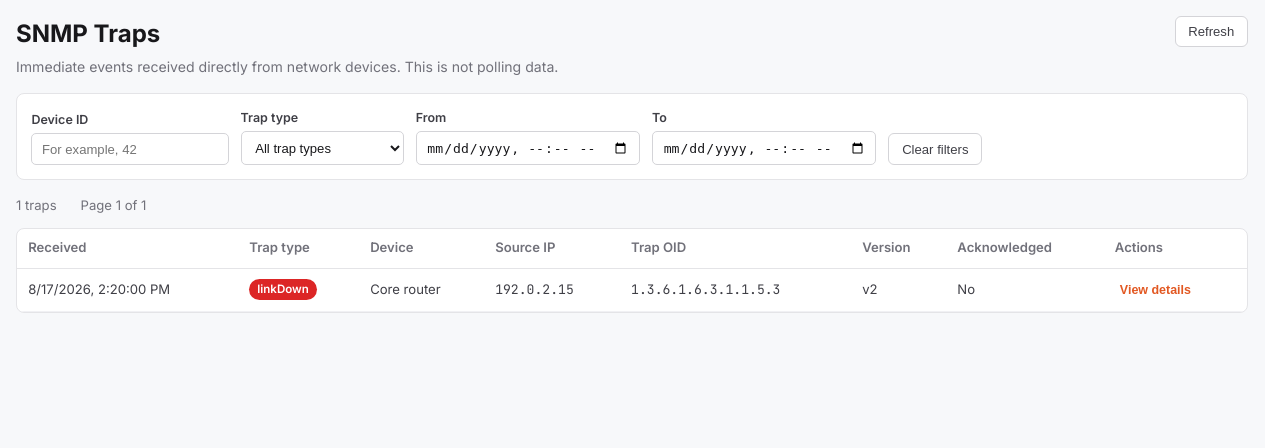
Test: SnmpTraps privacy and permissions › retries a failed detail request without collapsing the expanded row
The width and height of the screenshot is (1265, 448).
Click the button "View details" at [1155, 290], box [1115,280,1196,300]
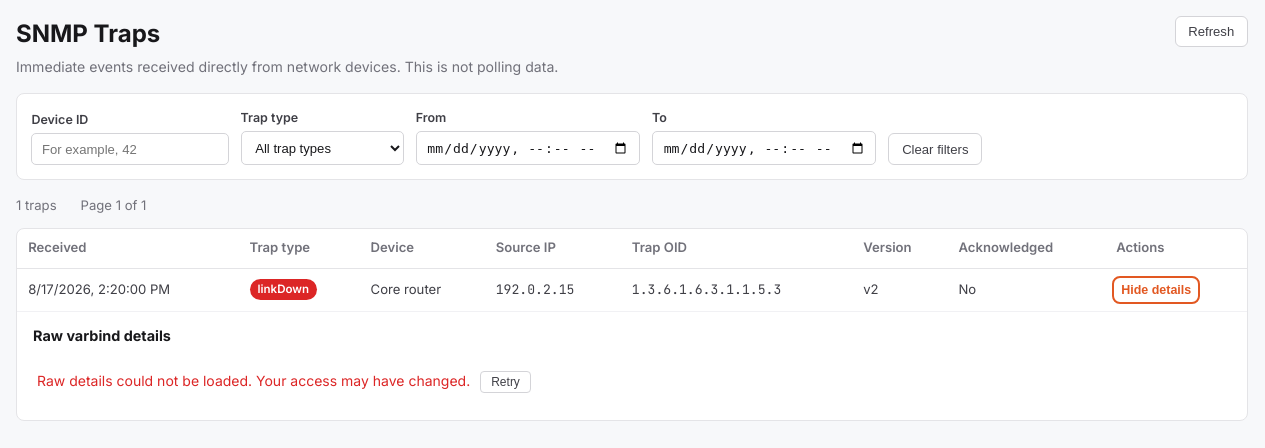
Result: the text "Raw details could not be loaded" is shown at [37,372,470,389]
Click the button "Retry" at [506, 382], box [480,371,531,393]
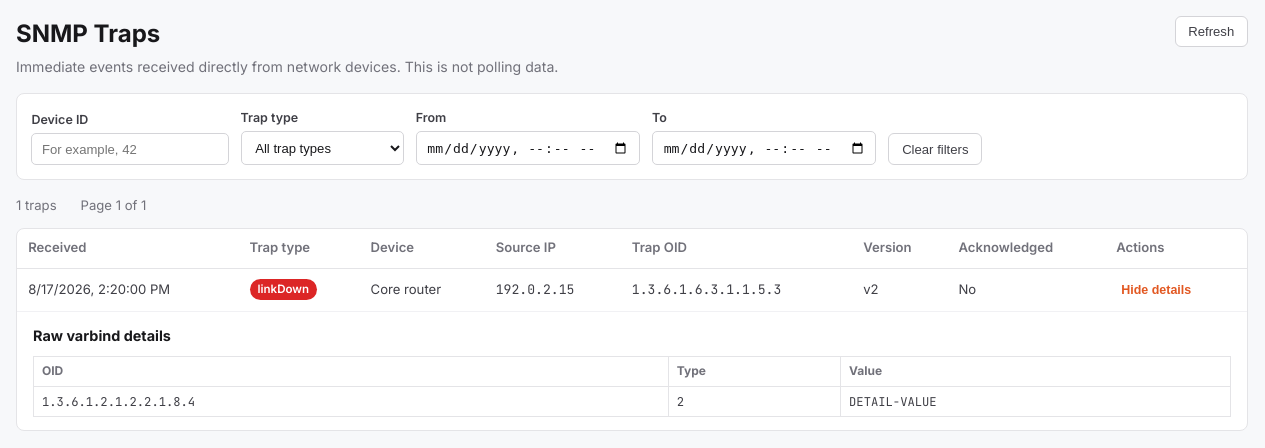
Result: the button "Hide details" is expanded at [1116,280,1196,300]
Result: the text "DETAIL-VALUE" is shown at [841,386,1230,417]
